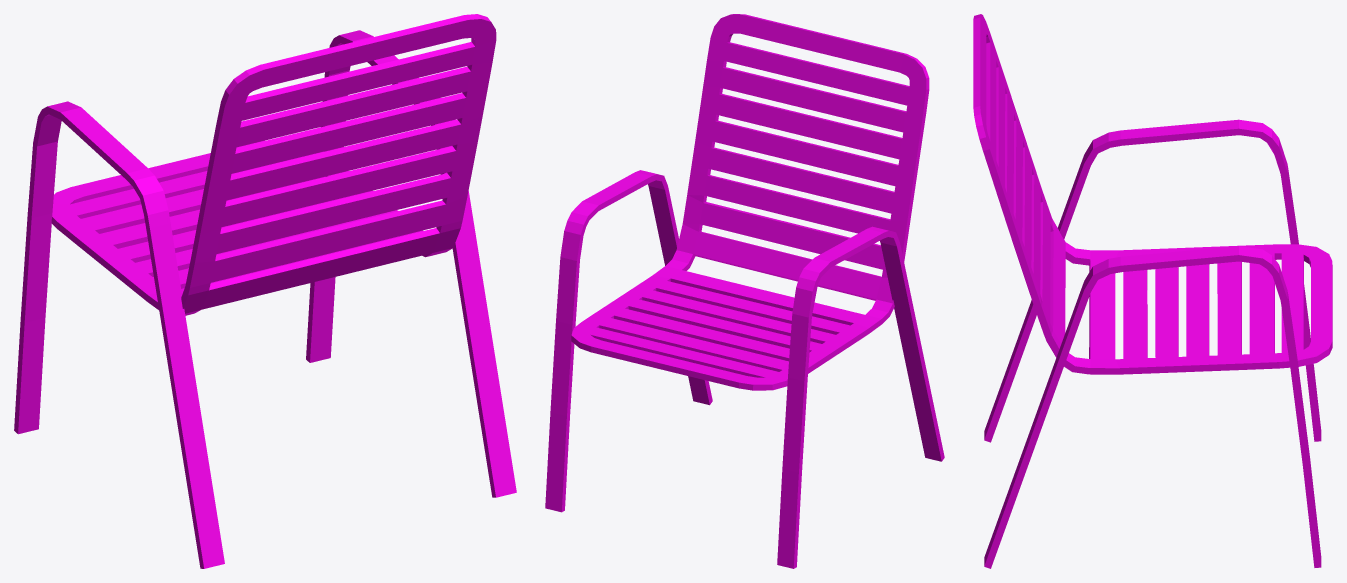
The model's file is chair 2 var 1.fbx.
3 views of the same model, side by side, from view 1: azimuth 30°, elevation 25°; view 2: azimuth 150°, elevation 25°; view 3: azimuth 270°, elevation 25° (orthographic). The views are drawn at different scales.
Parts seen in each view (by area): view 1: chair_2_var_1; view 2: chair_2_var_1; view 3: chair_2_var_1.
Part boxes in pixels (x1=…): chair_2_var_1: x1=14, y1=14, x2=516, y2=568; chair_2_var_1: x1=545, y1=14, x2=944, y2=568; chair_2_var_1: x1=973, y1=14, x2=1332, y2=568.
Size of the model in its own units: 2.7 by 4.09 by 3.03.
